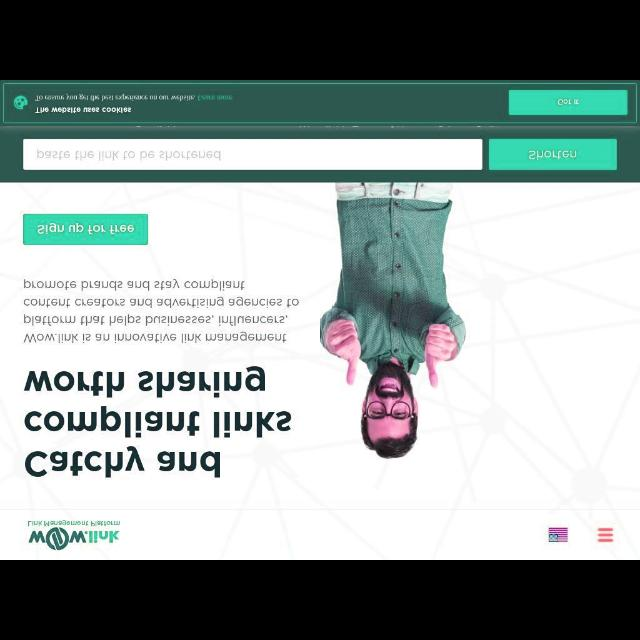icon: (597, 526, 615, 542), (15, 94, 29, 110)
image: (320, 183, 466, 459), (28, 530, 120, 550), (549, 527, 569, 543)
input: (23, 138, 483, 170)
text: (25, 366, 292, 478), (24, 279, 300, 345), (36, 149, 222, 161), (35, 94, 233, 102), (38, 222, 134, 234), (35, 106, 133, 114), (528, 148, 576, 160), (28, 520, 120, 526), (556, 96, 580, 106)
textbutton: (23, 214, 147, 246), (489, 139, 616, 169), (509, 90, 627, 114)
toolbar: (1, 510, 639, 560)
